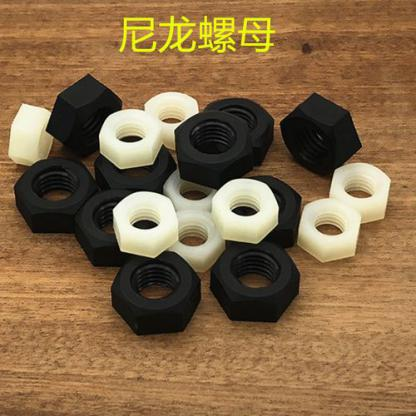FOD: (107, 253, 202, 338), (277, 88, 365, 175), (210, 244, 300, 324), (46, 70, 124, 157), (13, 158, 99, 236), (173, 102, 254, 184), (74, 184, 155, 264), (200, 93, 278, 165), (326, 158, 394, 226), (208, 180, 280, 244), (296, 197, 364, 263), (94, 106, 164, 169), (115, 188, 178, 252), (142, 87, 199, 154), (168, 208, 226, 272), (5, 99, 57, 168), (160, 165, 225, 216)
